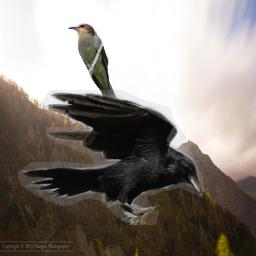Crow: (18, 90, 203, 225)
Cuckoo: (68, 23, 126, 133)
